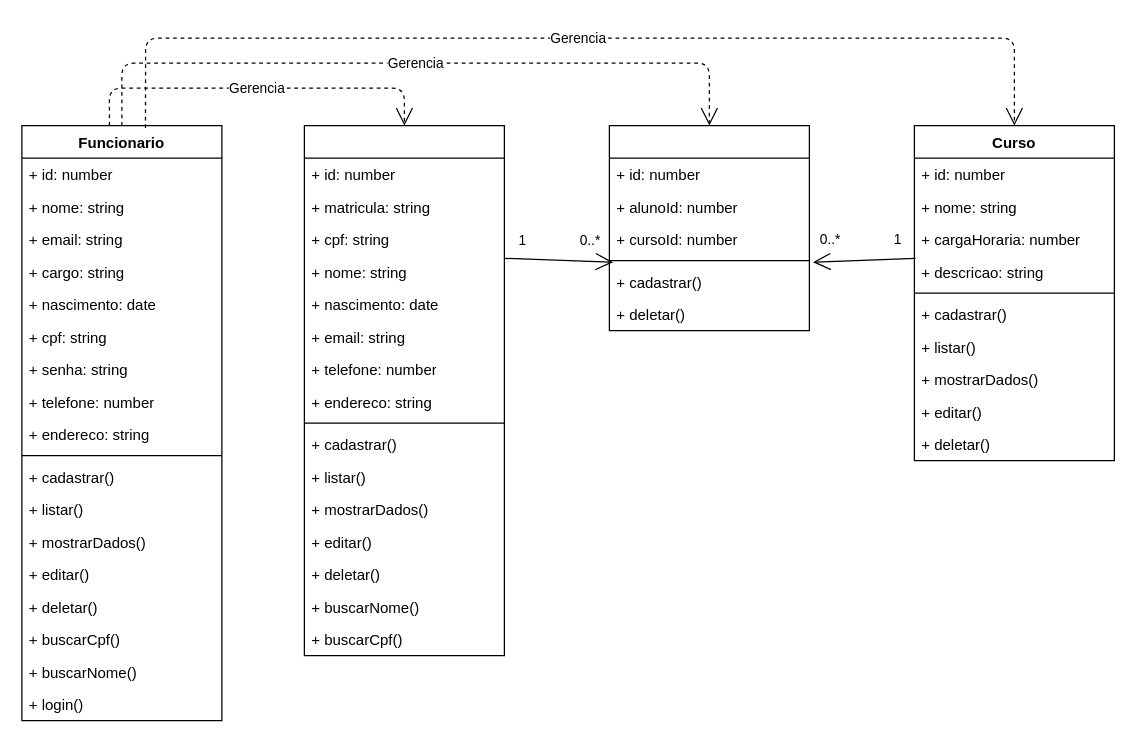
The diagram is 1136 pixels wide and 746 high, and some of its shapes have lost their labels. The box of each missing label's shape, as (x1, y1, x2, y2) in pixels:
Aluno: (303, 124, 504, 656)
Matricula: (608, 124, 809, 331)
